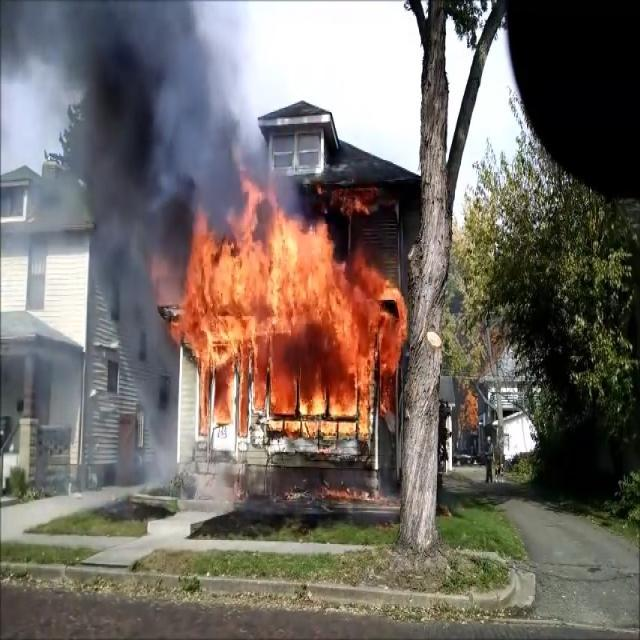Fire: (158, 168, 410, 442), (321, 182, 384, 222)
Smoke: (48, 0, 274, 246)
